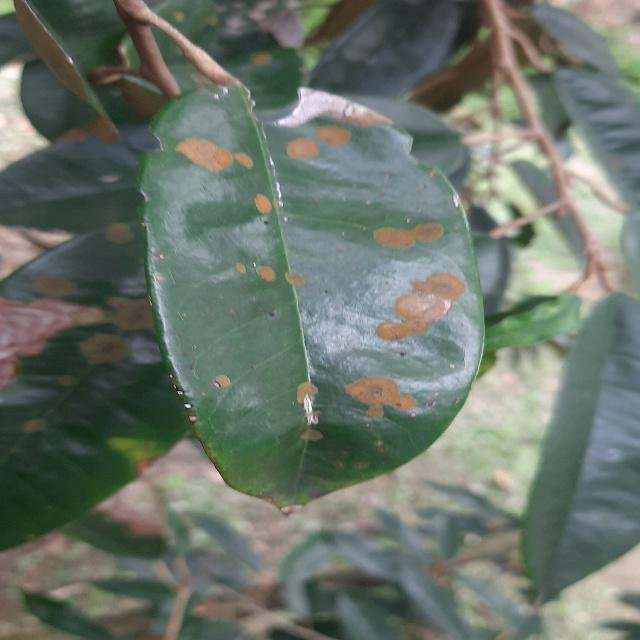Algal Leaf Spot: (149, 75, 491, 528)
